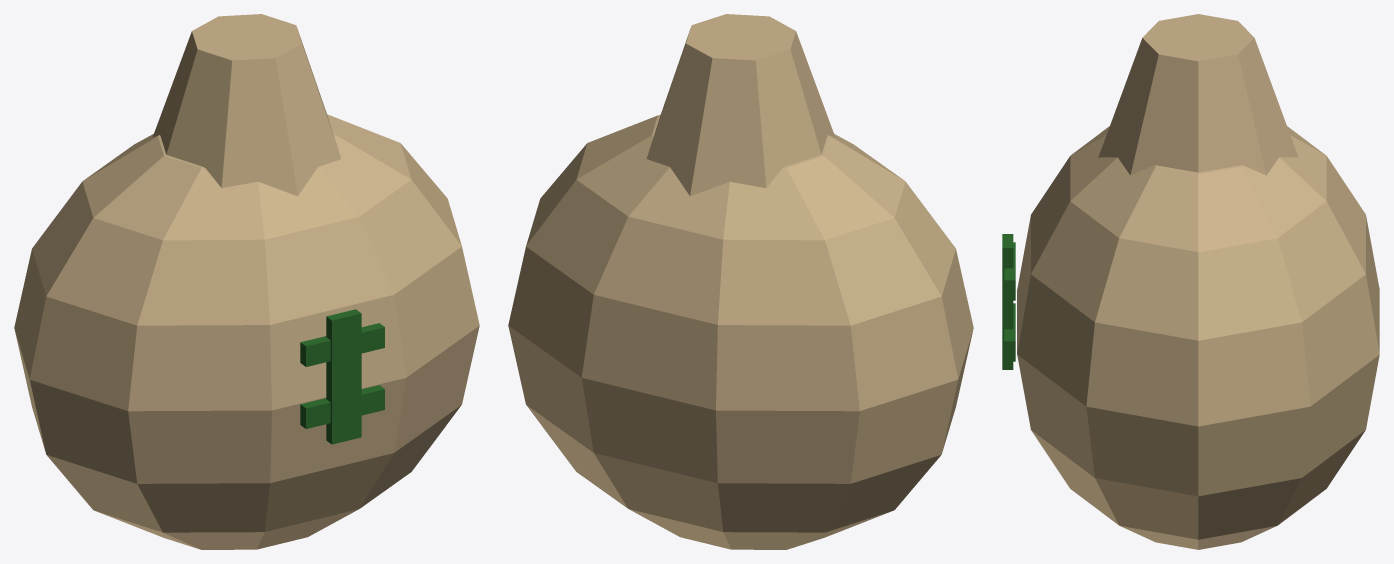
File: loot_bag.glb
3 views of the same model, side by side, from view 1: azimuth 30°, elevation 25°; view 2: azimuth 150°, elevation 25°; view 3: azimuth 270°, elevation 25° (orthographic).
Parts seen in each view (by area): view 1: sack_sack_canvas, neck_sack_canvas, sign_sack_ink (×3); view 2: sack_sack_canvas, neck_sack_canvas; view 3: sack_sack_canvas, neck_sack_canvas, sign_sack_ink (×3).
Boxes of the visible parts, box(x1,y1,x2,y2) form: sack_sack_canvas: box(14, 114, 479, 549); neck_sack_canvas: box(153, 14, 341, 196); sign_sack_ink (×3): box(300, 309, 384, 444); sack_sack_canvas: box(508, 114, 973, 549); neck_sack_canvas: box(646, 14, 834, 196); sack_sack_canvas: box(1017, 126, 1379, 549); neck_sack_canvas: box(1098, 14, 1298, 175); sign_sack_ink (×3): box(1002, 234, 1015, 369).
Bounding box in the file's own units: 0.44 × 0.48 × 0.3367.
